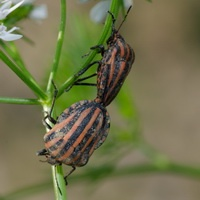insect: (38, 0, 134, 199), (51, 84, 97, 119)
